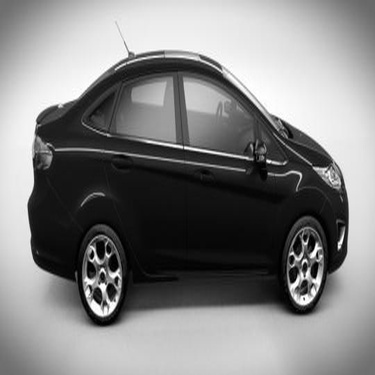car: (24, 45, 354, 325)
